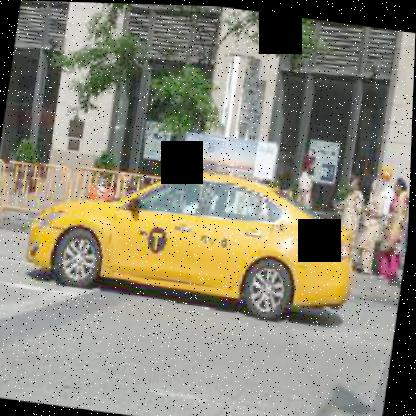not_emergency: (8, 129, 408, 357)
